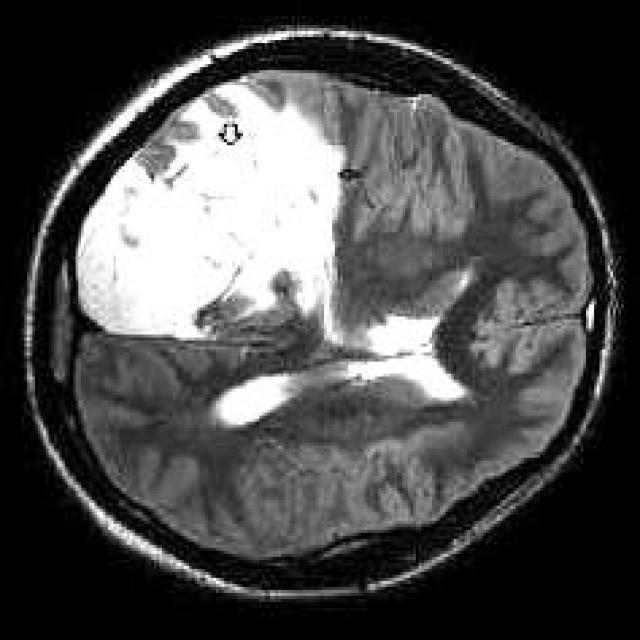tumor: (76, 78, 348, 340)
